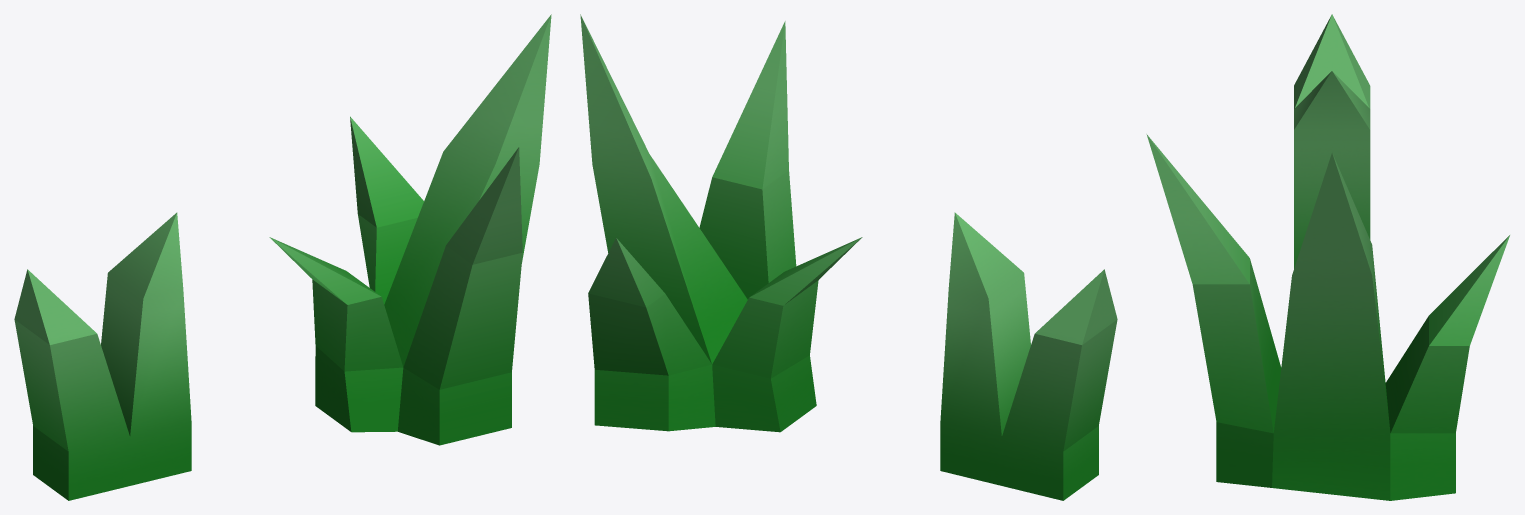
3 views of the same model, side by side, from view 1: azimuth 30°, elevation 25°; view 2: azimuth 150°, elevation 25°; view 3: azimuth 270°, elevation 25° (orthographic). The views are drawn at different scales.
Visible parts, largest first — view 1: Box002, Box001; view 2: Box002, Box001; view 3: Box002, Box001.
Part boxes in pixels (left/top/right/bottom): Box002: left=269, top=14, right=551, bottom=445; Box001: left=14, top=212, right=191, bottom=500; Box002: left=580, top=14, right=862, bottom=432; Box001: left=940, top=212, right=1117, bottom=500; Box002: left=1146, top=134, right=1509, bottom=500; Box001: left=1294, top=14, right=1370, bottom=268.
Size of the model in its own units: 51.16 by 32.82 by 28.6.
Materials: 1 (1 with a texture image).
